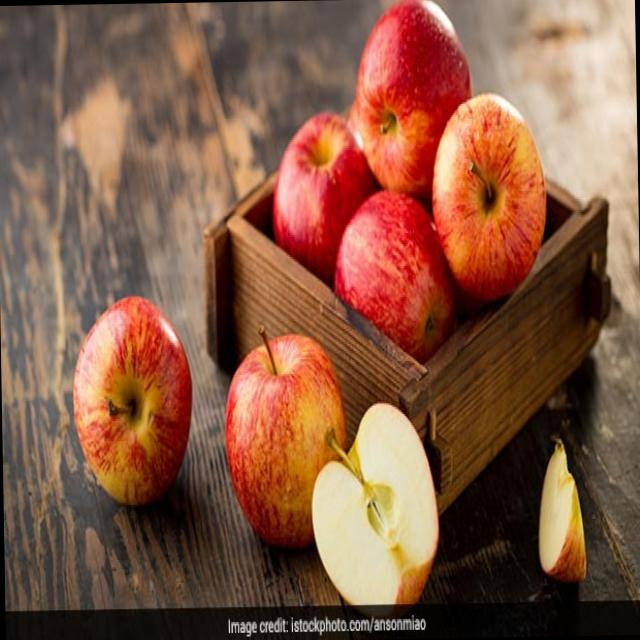apple: (214, 328, 353, 560), (428, 79, 557, 292), (68, 294, 195, 508), (335, 0, 478, 189), (332, 185, 452, 384), (268, 114, 380, 290)
